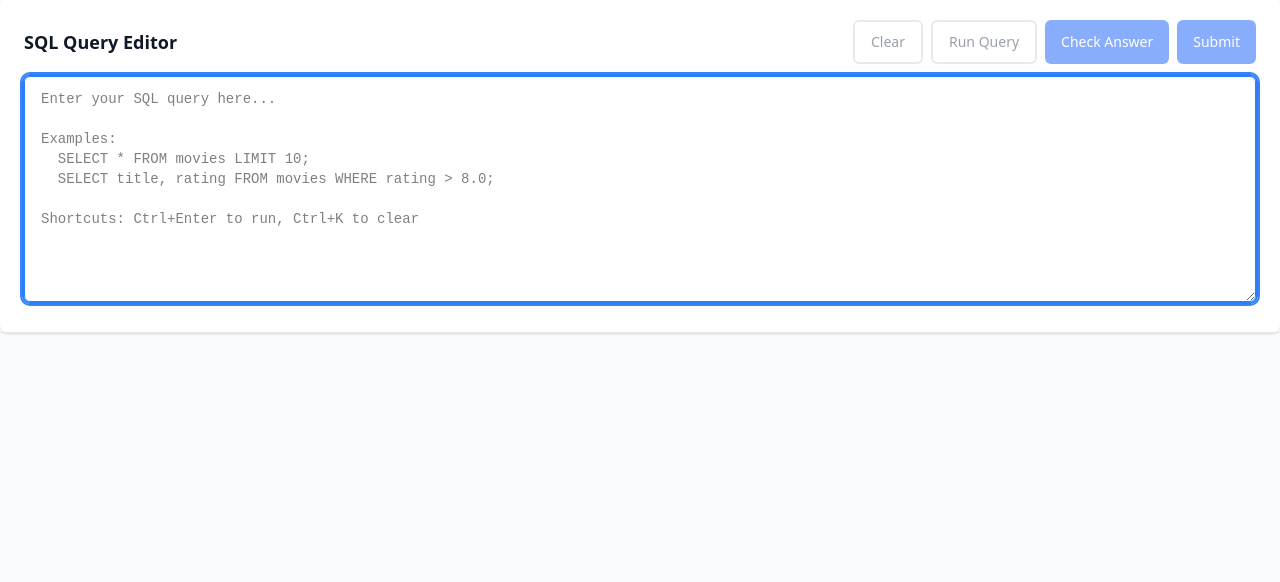
Test: QueryEditor › Query Validation › shows success message when query is correct
The image size is (1280, 582).
In the text box named "sql query input": (640, 189) [24, 76, 1256, 302], type "SELECT * FROM users"
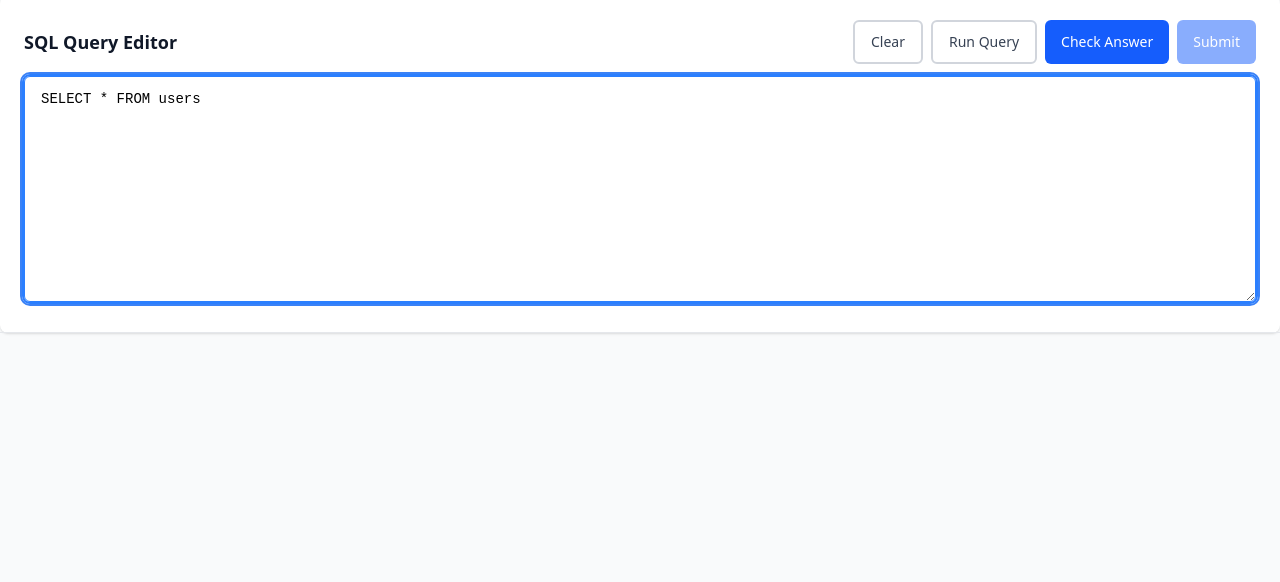
Click the button "Check Answer": (1107, 42) [1045, 20, 1169, 64]
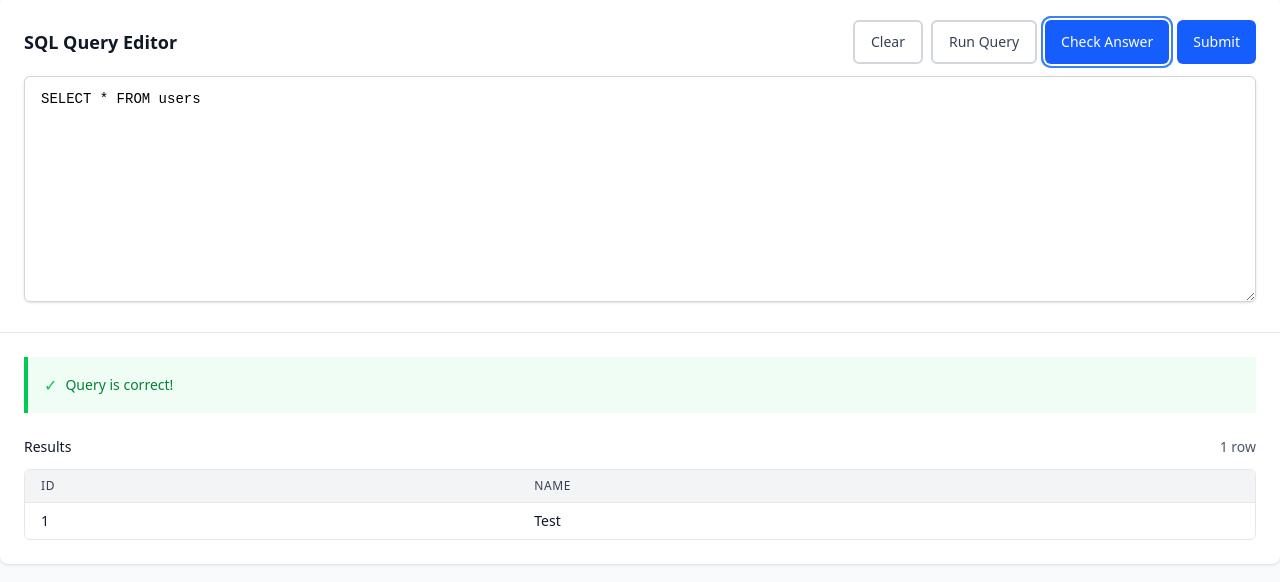
Check: the text "Query is correct!" is shown, box [65, 375, 173, 395]
